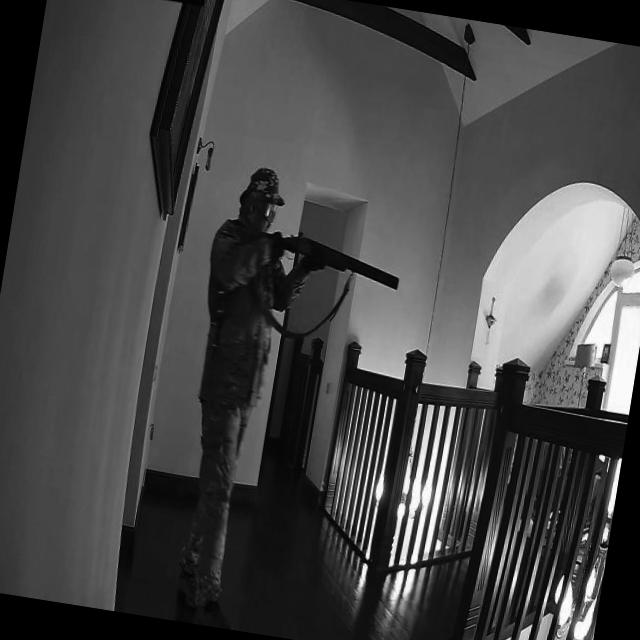gun: (270, 223, 411, 302)
person with a gun: (154, 157, 419, 640)
